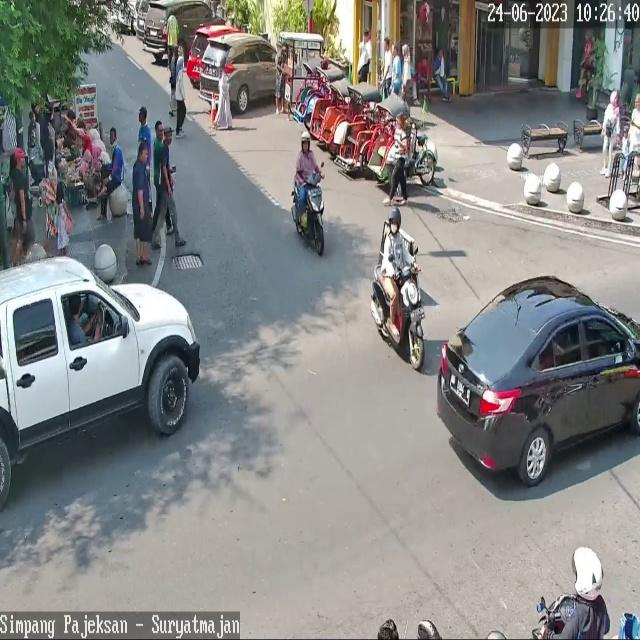bus: (370, 264, 426, 369), (291, 172, 325, 255), (532, 595, 579, 638)
motorcycle: (0, 256, 200, 512), (437, 276, 640, 486), (201, 34, 281, 114), (144, 0, 227, 63), (186, 24, 242, 82)
